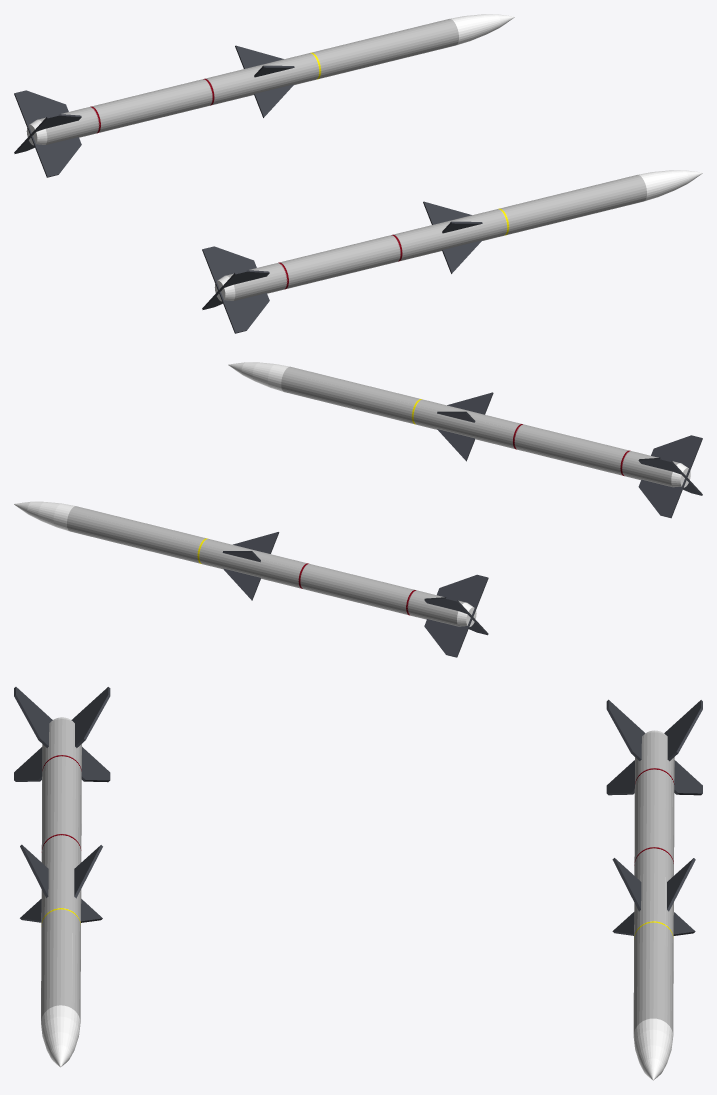
The model's file is f15eaim120891.glb.
The picture shows the model from 3 angles, top to bottom: view 1: azimuth 30°, elevation 25°; view 2: azimuth 150°, elevation 25°; view 3: azimuth 270°, elevation 25°; orthographic projection. The views are drawn at different scales.
Visible parts, largest first — view 1: 円柱.007, 円柱.005; view 2: 円柱.007, 円柱.005; view 3: 円柱.007, 円柱.005.
Boxes of the visible parts, x1,y1,x2,y2 form: 円柱.007: [14, 14, 514, 177]; 円柱.005: [202, 170, 702, 333]; 円柱.007: [14, 501, 488, 657]; 円柱.005: [228, 362, 702, 518]; 円柱.007: [606, 699, 702, 1080]; 円柱.005: [14, 687, 110, 1067].
Size of the model in its own units: 4.56 by 0.5295 by 3.78.
Materials: 4 (4 with a texture image).
